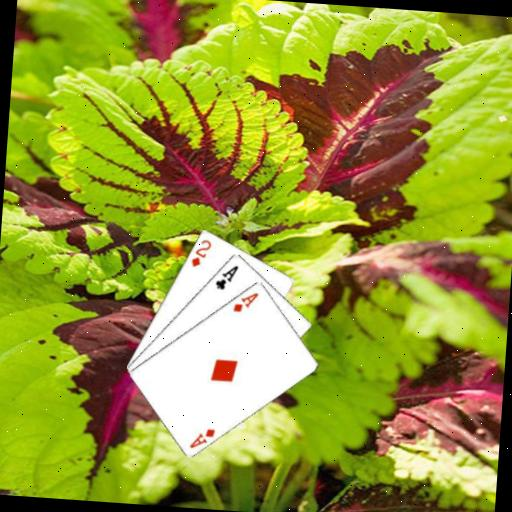2D: (187, 235, 213, 269)
AC: (212, 260, 241, 292)
AD: (186, 424, 217, 451), (230, 288, 260, 315)
